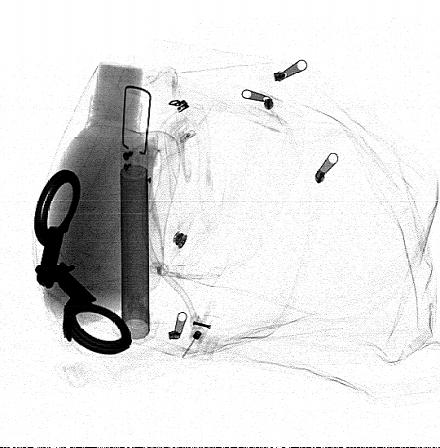HandCuffs: (34, 168, 132, 356)
